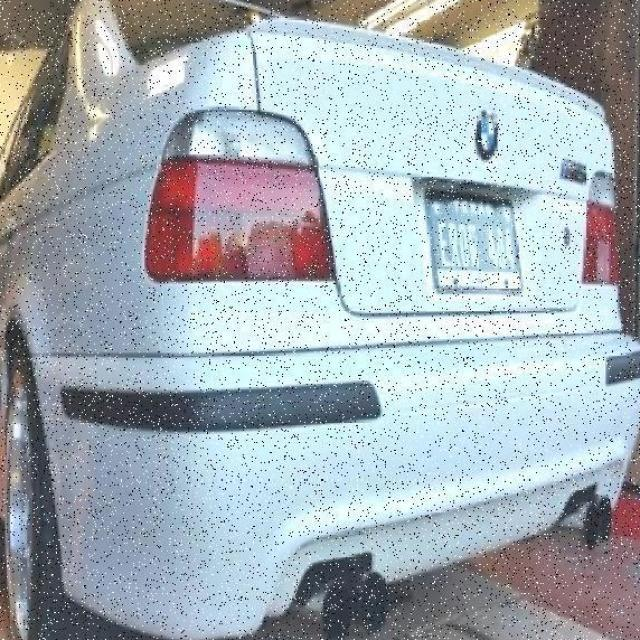license-plate: (393, 178, 584, 366)
